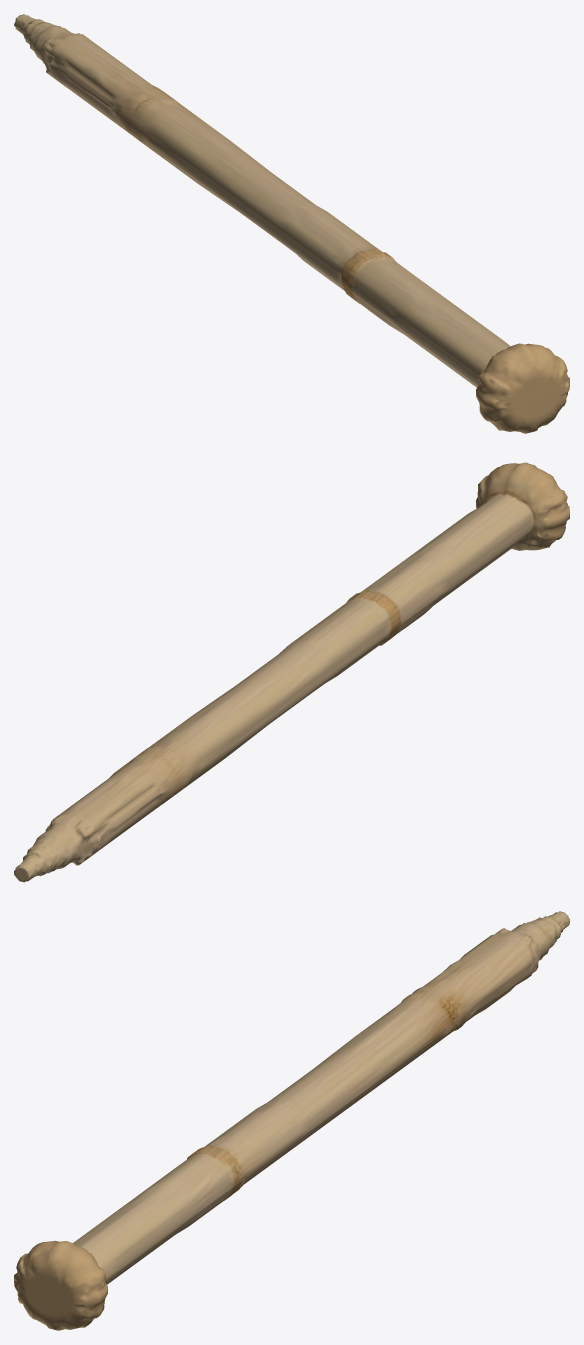
The model's file is needle.glb.
3 renders of one model, top to bottom at view 1: azimuth 30°, elevation 25°; view 2: azimuth 150°, elevation 25°; view 3: azimuth 330°, elevation 25°, orthographic.
Parts seen in each view (by area): view 1: tripo_node_89eea1aa-a526-4e3d-903d-4cf6d; view 2: tripo_node_89eea1aa-a526-4e3d-903d-4cf6d; view 3: tripo_node_89eea1aa-a526-4e3d-903d-4cf6d.
Part boxes in pixels (x1=…): tripo_node_89eea1aa-a526-4e3d-903d-4cf6d: x1=14, y1=14, x2=569, y2=433; tripo_node_89eea1aa-a526-4e3d-903d-4cf6d: x1=14, y1=462, x2=569, y2=882; tripo_node_89eea1aa-a526-4e3d-903d-4cf6d: x1=14, y1=911, x2=569, y2=1330.
Bounding box in the file's own units: 0.0957 × 0.0918 × 0.998.
1 material, 1 textured.
